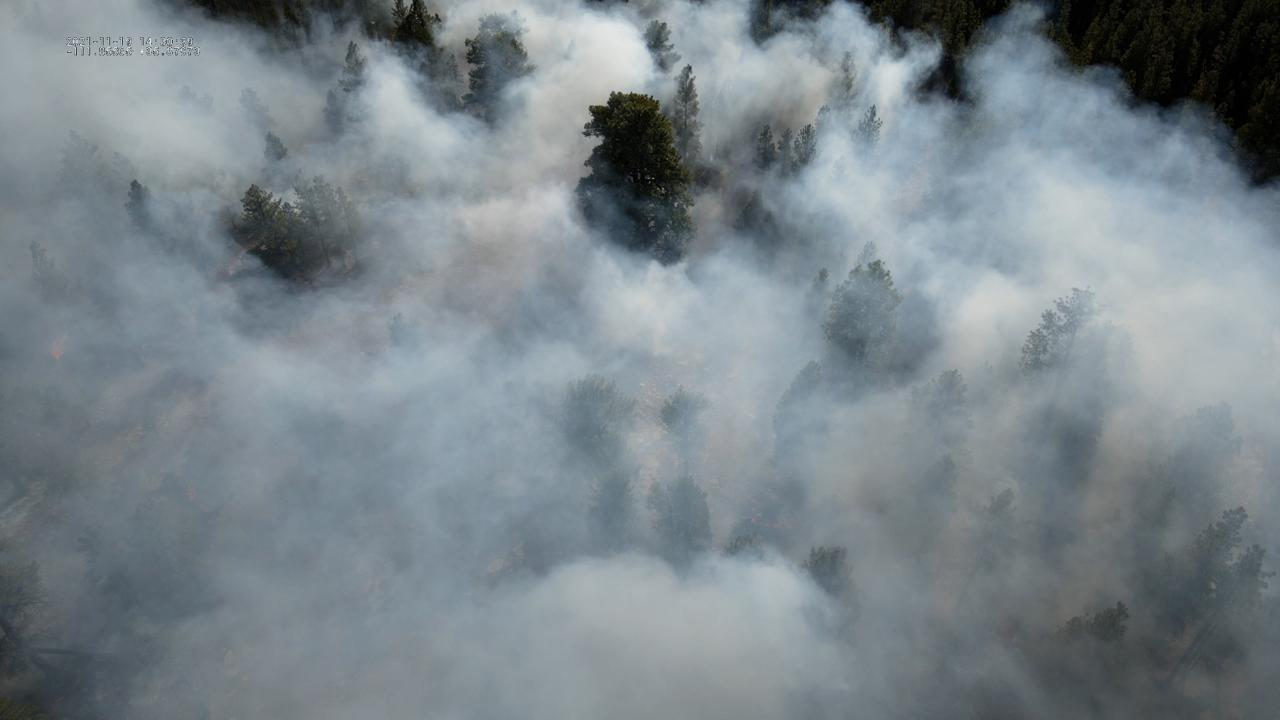fire: (46, 331, 70, 360)
smoke: (0, 0, 1280, 720)
